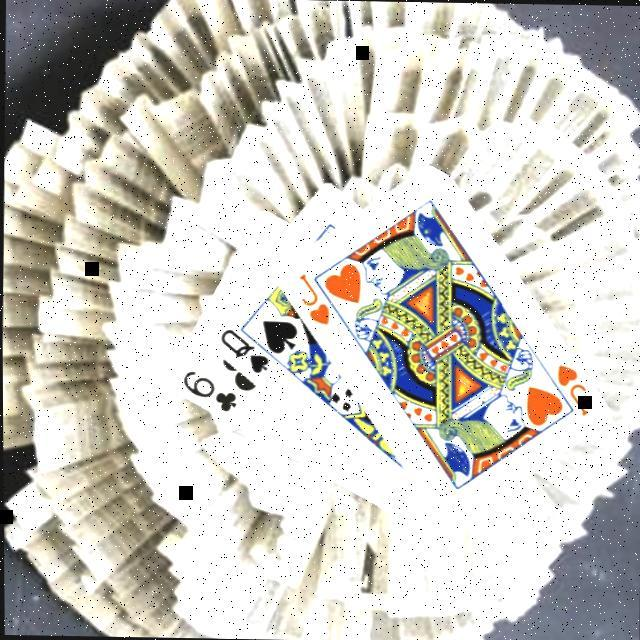6C: (176, 366, 237, 415)
JH: (550, 359, 590, 418), (293, 268, 332, 328)
QS: (213, 324, 270, 375)
